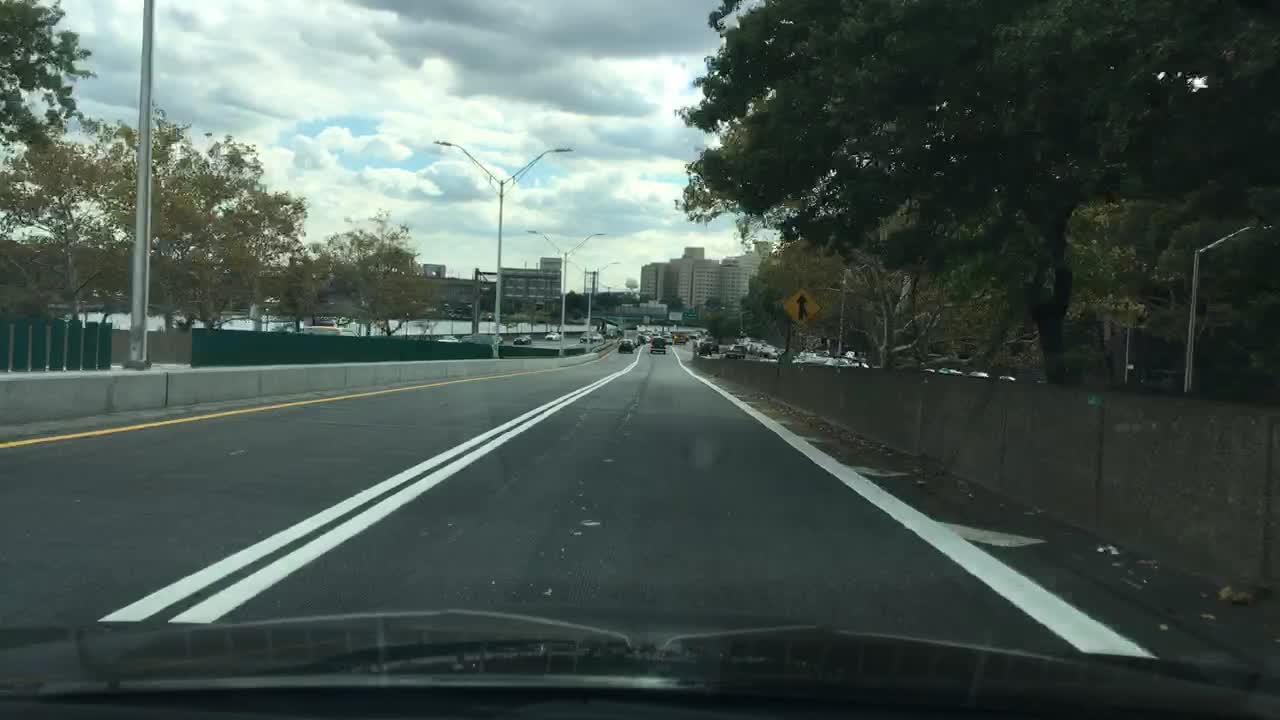car: (795, 349, 830, 367), (467, 330, 504, 342), (647, 334, 668, 355), (830, 352, 859, 364), (622, 328, 639, 348), (434, 333, 461, 345), (938, 363, 963, 375), (544, 329, 564, 343), (616, 338, 634, 353), (697, 341, 714, 356), (967, 368, 990, 379), (672, 330, 687, 345), (731, 342, 746, 357), (760, 348, 780, 359), (998, 372, 1019, 382), (511, 333, 531, 343), (660, 330, 673, 345), (723, 346, 737, 359), (638, 330, 650, 342), (591, 330, 604, 341), (579, 331, 592, 342), (688, 333, 703, 341)
traffic sign: (780, 289, 822, 327)
